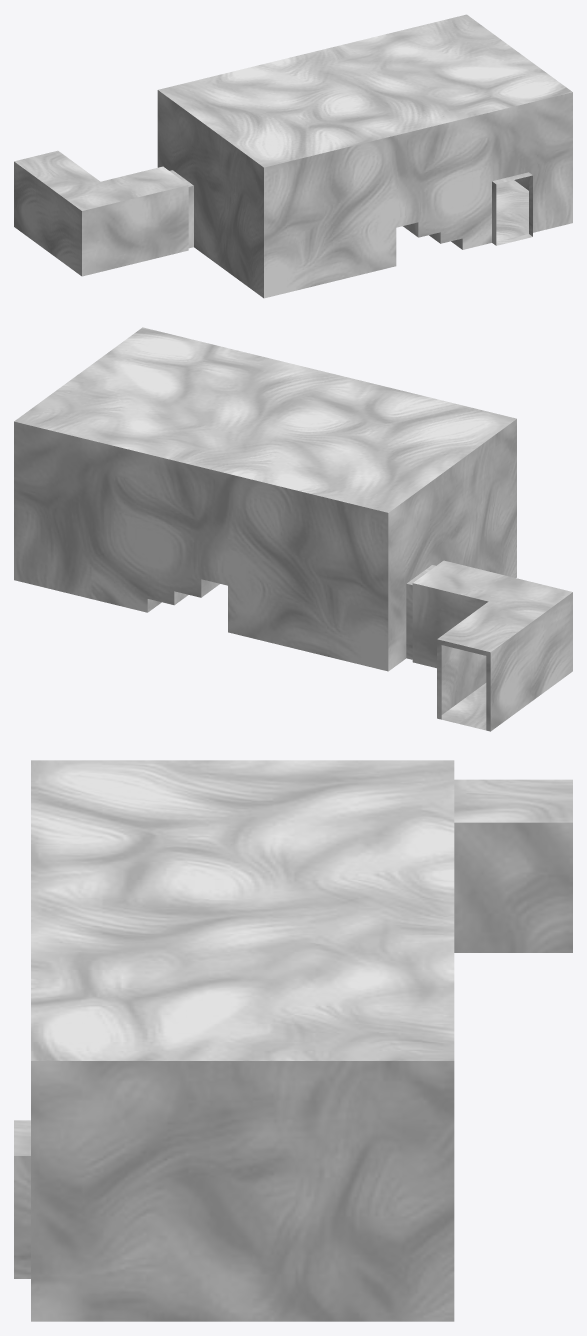
The model's file is Stage3.obj.
3 views of the same model, one above another, from view 1: azimuth 30°, elevation 25°; view 2: azimuth 150°, elevation 25°; view 3: azimuth 270°, elevation 25° (orthographic). The views are drawn at different scales.
Parts seen in each view (by area): view 1: Stage3; view 2: Stage3; view 3: Stage3.
Boxes of the visible parts, bbox=[...] form: Stage3: bbox=[14, 14, 572, 298]; Stage3: bbox=[14, 327, 572, 731]; Stage3: bbox=[14, 760, 572, 1321].
Size of the model in its own units: 28.75 by 8.5 by 16.5.
Materials: 1 (1 with a texture image).
